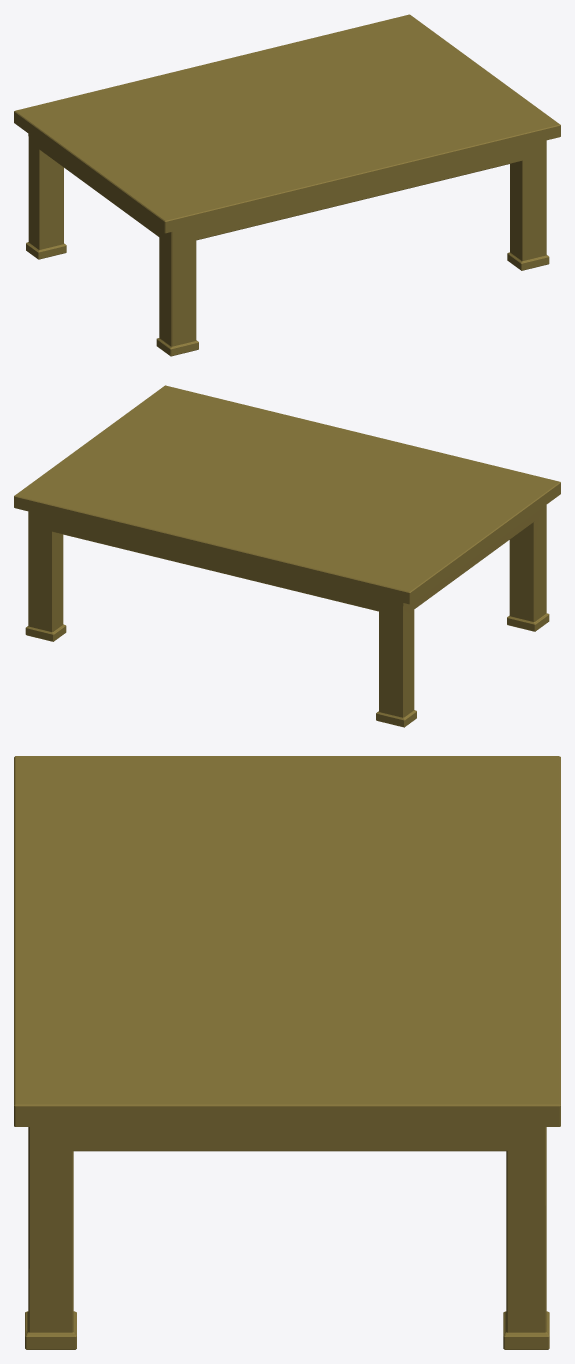
The model's file is SM_Tabel_3.fbx.
3 views of the same model, one above another, from view 1: azimuth 30°, elevation 25°; view 2: azimuth 150°, elevation 25°; view 3: azimuth 270°, elevation 25° (orthographic). The views are drawn at different scales.
Visible parts, largest first — view 1: Table_3; view 2: Table_3; view 3: Table_3.
Part boxes in pixels (x1,y1,x2,y2): Table_3: (14, 14, 560, 356); Table_3: (14, 385, 560, 727); Table_3: (14, 756, 560, 1349).
Size of the model in its own units: 3.03 by 1.02 by 2.
